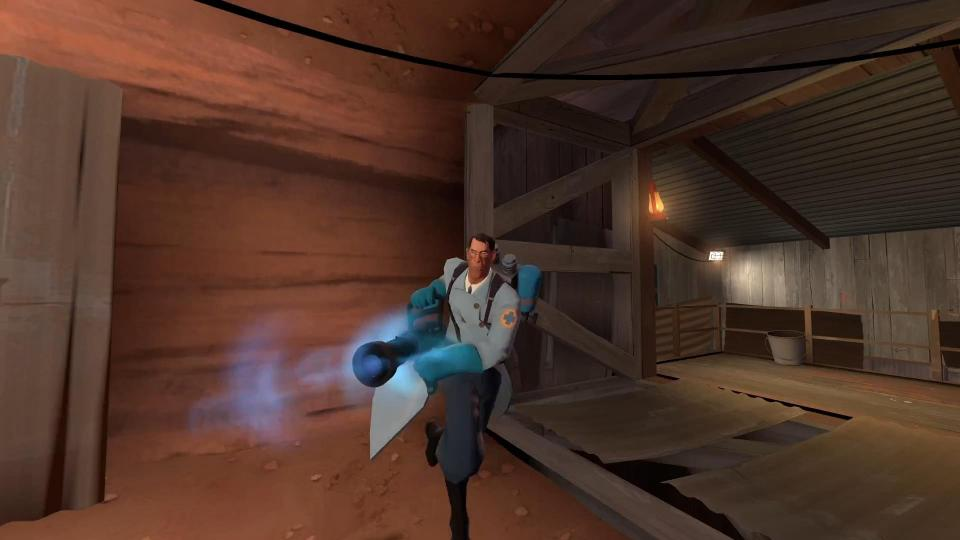Enemy: (361, 229, 550, 540)
